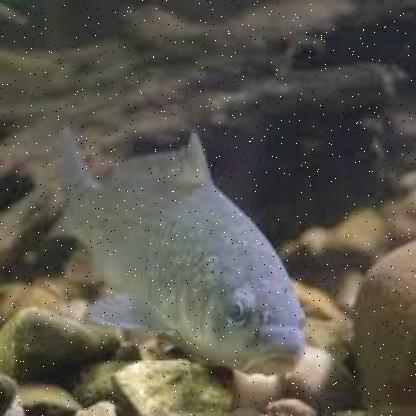ikan-mas: (52, 134, 314, 378)
